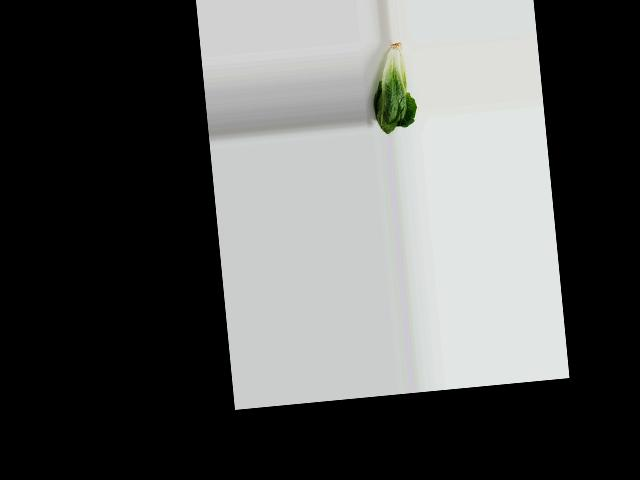lettuce: (365, 37, 420, 135)
